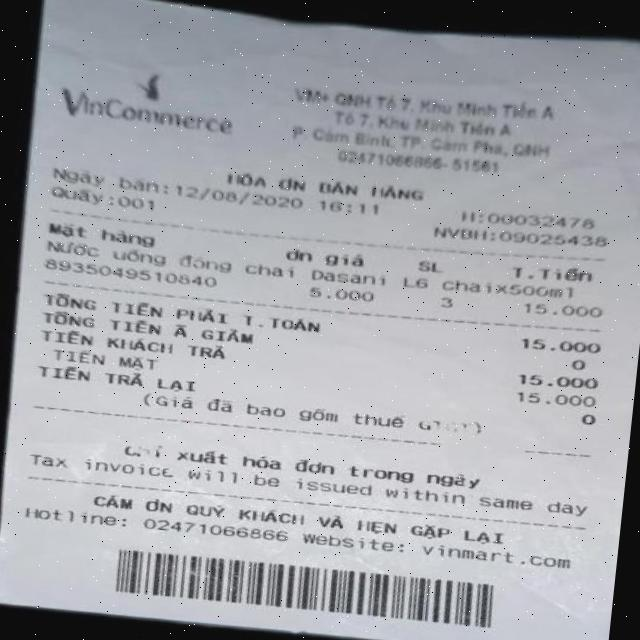Date: (170, 179, 306, 217)
Store_Name: (37, 52, 256, 145)
amount_number: (513, 328, 605, 361)
label_total: (40, 290, 323, 339)
